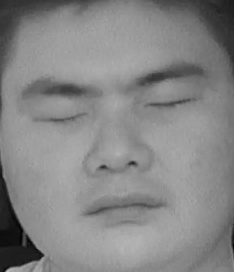blink: (33, 100, 86, 133), (148, 86, 198, 119)
mouth: (80, 182, 160, 227)
